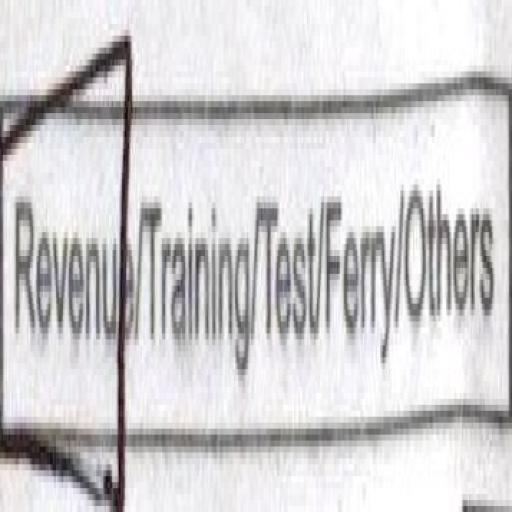check: (0, 18, 136, 511)
